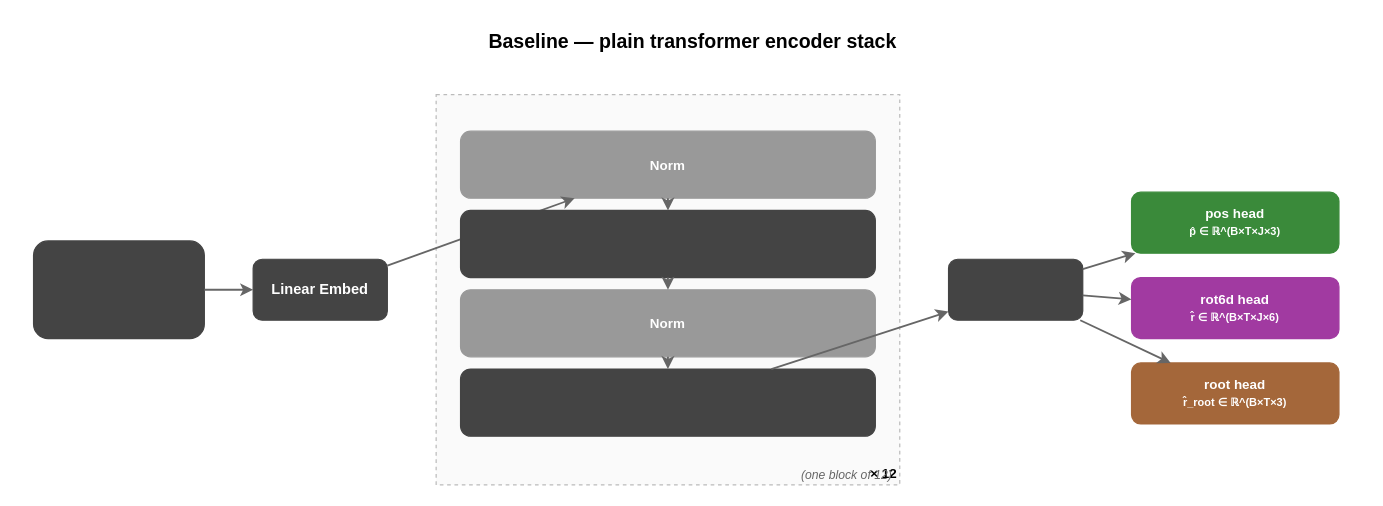
Some shapes in this 1383 by 506 pixel diagram are drawn without their labels. The shapes that lost their labels are listed below. From the top down, each one's centre as x and y in pixels, then its label:
the point at 667,243: Multi-Head Attention
the point at 118,289: Input [B, T, J, 3+6+3]
the point at 1015,289: Decoder
the point at 667,402: FFN
